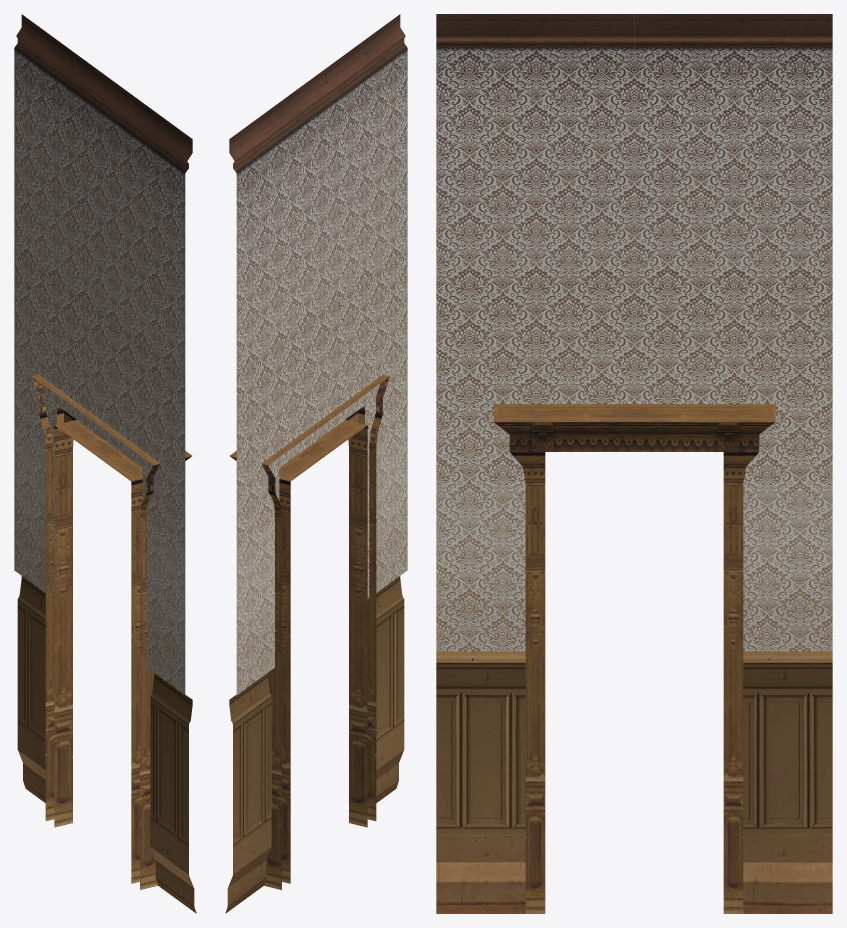
Rendered from 5m_wall_doorframe.fbx.
3 views of the same model, side by side, from view 1: azimuth 30°, elevation 25°; view 2: azimuth 150°, elevation 25°; view 3: azimuth 270°, elevation 25° (orthographic). The views are drawn at different scales.
Visible parts, largest first — view 1: wall_5m_doorframe; view 2: wall_5m_doorframe; view 3: wall_5m_doorframe.
Boxes of the visible parts, <box> form: wall_5m_doorframe: <box>14,14,196,913</box>; wall_5m_doorframe: <box>225,14,407,913</box>; wall_5m_doorframe: <box>436,14,832,913</box>.
Size of the model in its own units: 26.25 by 500 by 200.
1 material, 1 textured.
